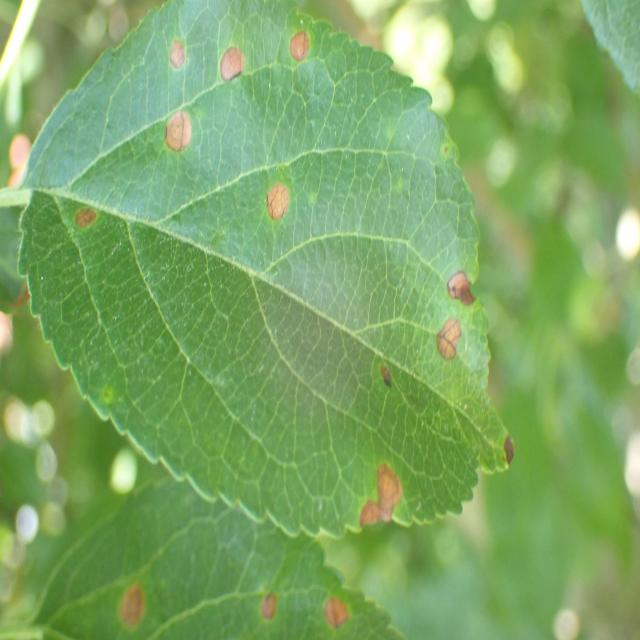Black Rot: (355, 438, 417, 562), (253, 161, 298, 244), (314, 580, 368, 640), (431, 262, 492, 315), (420, 313, 462, 386), (62, 193, 111, 254), (112, 579, 154, 636), (207, 39, 249, 92), (160, 107, 199, 160), (279, 17, 313, 73), (496, 424, 529, 472), (362, 359, 403, 392), (252, 588, 285, 627), (159, 38, 188, 74)
